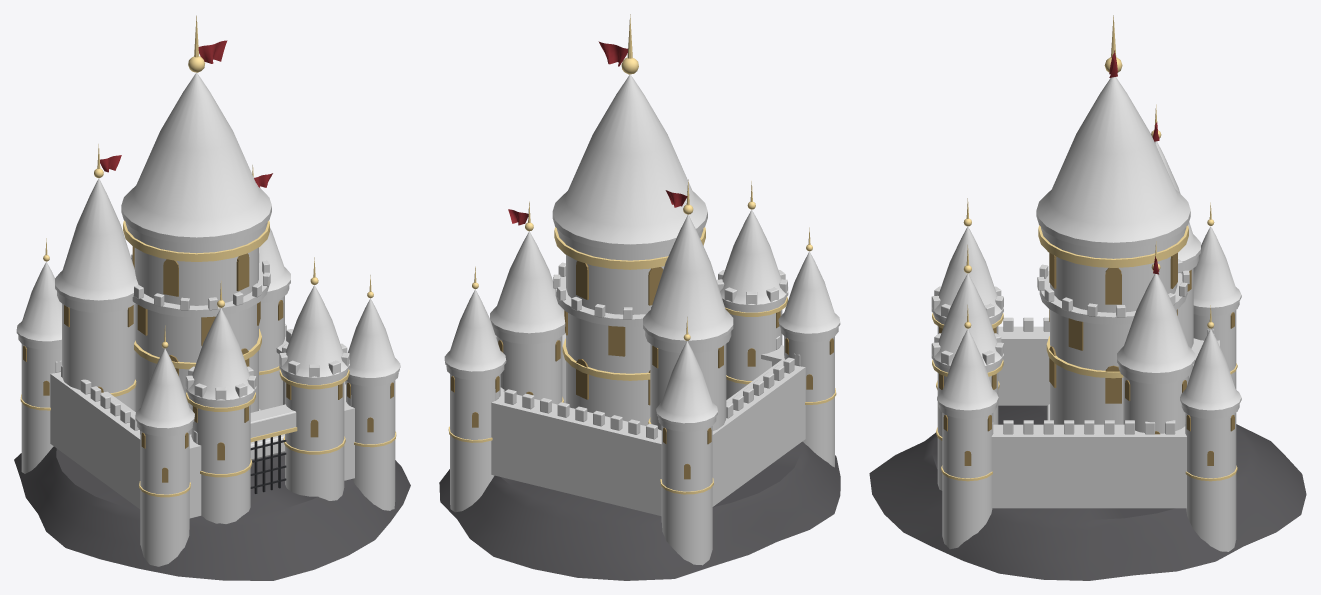
File: ench_castle.fbx
3 renders of one model, left to right at view 1: azimuth 30°, elevation 25°; view 2: azimuth 150°, elevation 25°; view 3: azimuth 270°, elevation 25°, orthographic. The views are drawn at different scales.
Parts seen in each view (by area): view 1: stone_1, slate_1, rock_1, stonepale_1, gold_1, window_1, iron_1, crimson_1; view 2: slate_1, stone_1, rock_1, stonepale_1, gold_1, window_1, crimson_1; view 3: slate_1, stone_1, rock_1, stonepale_1, gold_1, window_1.
Boxes of the visible parts, x1,y1,x2,y2 form: stone_1: [18, 222, 398, 566]; slate_1: [16, 72, 400, 430]; rock_1: [14, 446, 410, 580]; stonepale_1: [50, 324, 354, 518]; gold_1: [20, 15, 396, 497]; window_1: [23, 246, 393, 482]; iron_1: [250, 435, 286, 493]; crimson_1: [100, 40, 272, 187]; slate_1: [444, 74, 840, 425]; stone_1: [446, 229, 838, 565]; rock_1: [439, 441, 840, 580]; stonepale_1: [491, 333, 805, 516]; gold_1: [448, 14, 836, 494]; window_1: [451, 261, 833, 479]; crimson_1: [508, 41, 687, 225]; slate_1: [931, 77, 1241, 412]; stone_1: [931, 227, 1239, 551]; rock_1: [869, 405, 1306, 580]; stonepale_1: [991, 317, 1219, 508]; gold_1: [932, 15, 1237, 481]; window_1: [939, 253, 1234, 465].
Size of the model in its own units: 6.57 by 8.73 by 7.2.
